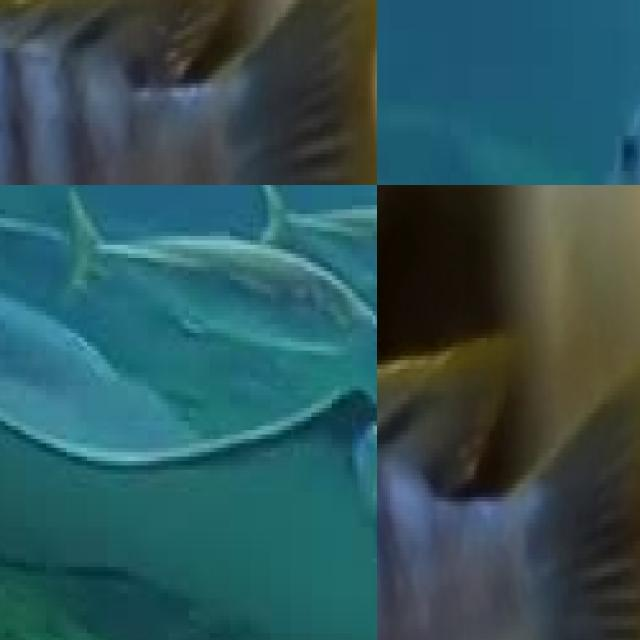fish: (377, 245, 640, 640), (0, 0, 377, 185), (585, 0, 640, 185)
